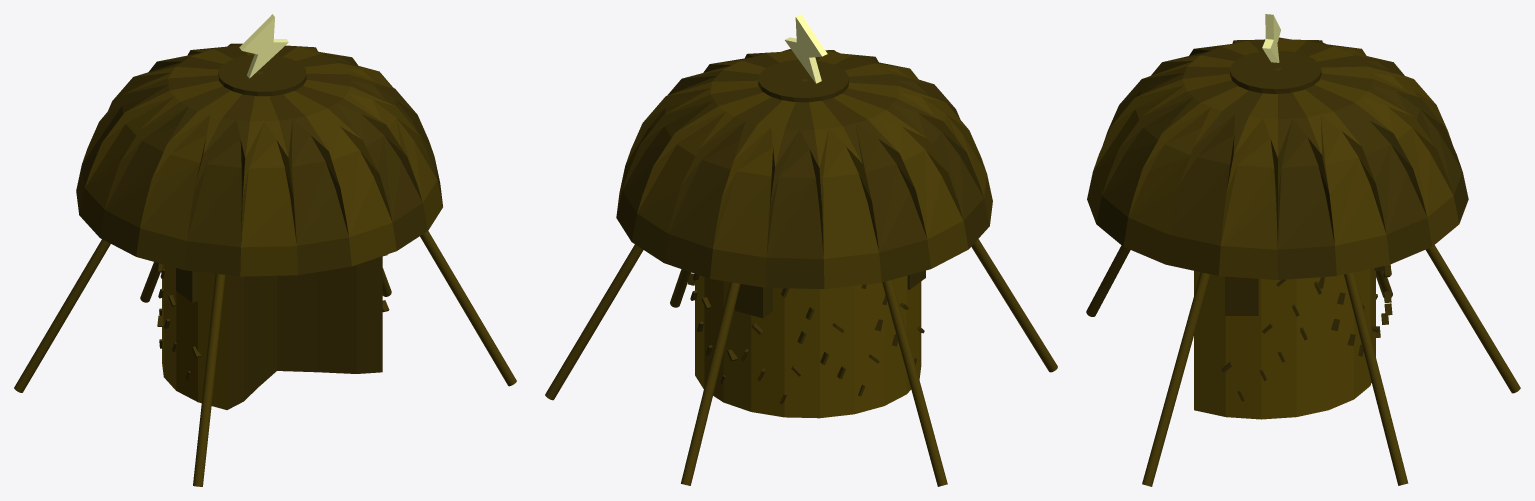
The model's file is hut_V3.fbx.
The picture shows the model from 3 angles, left to right: view 1: azimuth 30°, elevation 25°; view 2: azimuth 150°, elevation 25°; view 3: azimuth 270°, elevation 25°; orthographic projection. The views are drawn at different scales.
Parts seen in each view (by area): view 1: hut_v3; view 2: hut_v3; view 3: hut_v3.
Boxes of the visible parts, x1=… form: hut_v3: x1=14, y1=14, x2=516, y2=486; hut_v3: x1=545, y1=14, x2=1057, y2=486; hut_v3: x1=1086, y1=14, x2=1520, y2=486.
Bounding box in the file's own units: 875 × 803 × 826.
